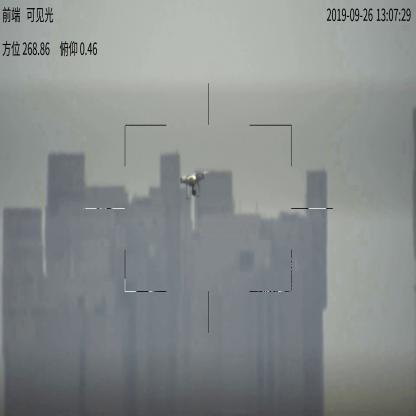uav: (174, 168, 206, 200)
